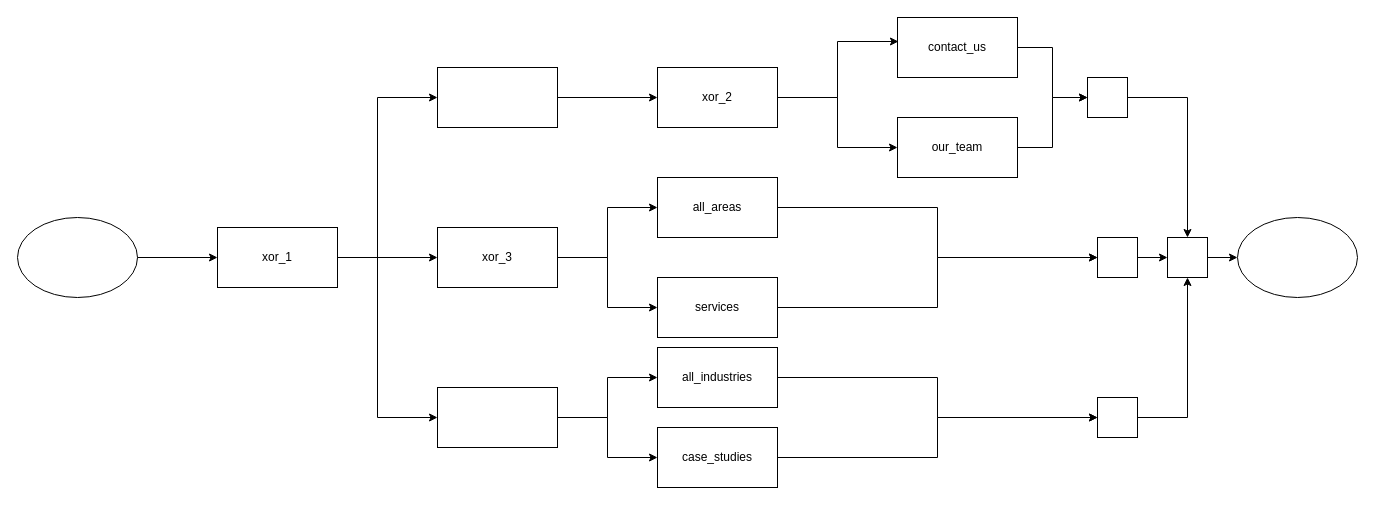
The diagram is 1375 pixels wide and 505 high, and some of its shapes have lost their labels. Each missing label, with the box of its shape:
about_us: (436, 66, 558, 128)
end: (1236, 216, 1358, 298)
start: (16, 216, 138, 298)
xor_4: (436, 386, 558, 448)
